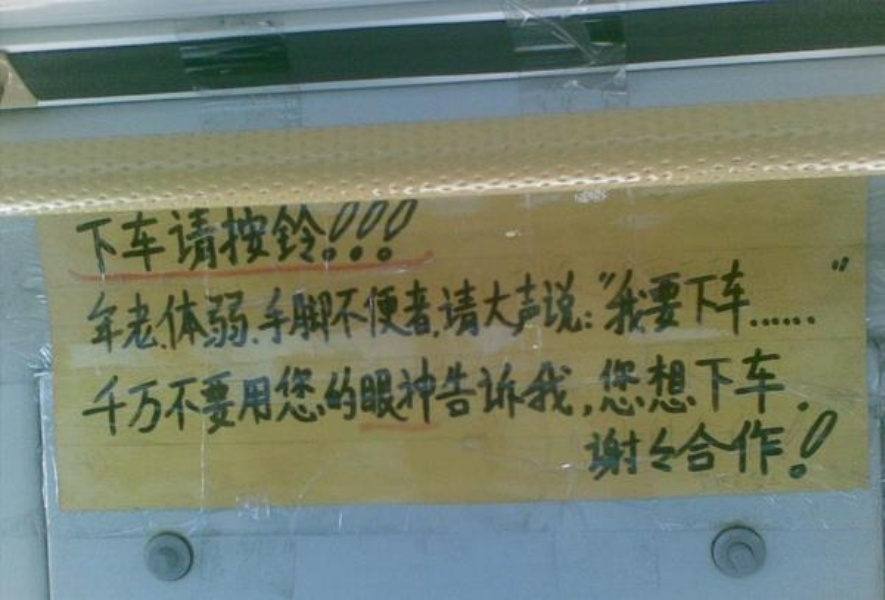text: (97, 251, 112, 371), (113, 251, 128, 371), (129, 251, 144, 371), (145, 251, 160, 371), (161, 251, 176, 371), (177, 251, 192, 371), (193, 251, 208, 371), (209, 251, 224, 371), (225, 251, 240, 371), (241, 251, 256, 371), (257, 251, 272, 371), (273, 251, 288, 371), (289, 251, 304, 371), (305, 251, 320, 371), (321, 251, 336, 371), (337, 251, 352, 371), (353, 251, 368, 371), (369, 251, 384, 371), (385, 251, 400, 371), (401, 251, 416, 371), (417, 251, 432, 371), (433, 251, 448, 371), (449, 251, 464, 371), (465, 251, 480, 371), (481, 251, 496, 371), (497, 251, 512, 371), (513, 251, 528, 371), (529, 251, 544, 371), (545, 251, 560, 371), (561, 251, 576, 371), (577, 251, 592, 371), (593, 251, 608, 371), (609, 251, 624, 371), (625, 251, 640, 371), (641, 251, 656, 371), (657, 251, 672, 371), (673, 251, 688, 371), (689, 251, 704, 371), (705, 251, 720, 371), (721, 251, 736, 371), (737, 251, 752, 371), (753, 251, 768, 371), (769, 251, 784, 371), (785, 251, 800, 371), (801, 251, 816, 371), (817, 251, 832, 371), (833, 251, 848, 371), (83, 251, 96, 371), (97, 348, 112, 440), (113, 348, 128, 440), (129, 348, 144, 440), (145, 348, 160, 440), (161, 348, 176, 440), (177, 348, 192, 440), (193, 348, 208, 440), (209, 348, 224, 440), (225, 348, 240, 440), (241, 348, 256, 440), (257, 348, 272, 440), (273, 348, 288, 440), (289, 348, 304, 440), (305, 348, 320, 440), (321, 348, 336, 440), (337, 348, 352, 440), (353, 348, 368, 440), (369, 348, 384, 440), (385, 348, 400, 440), (401, 348, 416, 440), (417, 348, 432, 440), (433, 348, 448, 440), (449, 348, 464, 440), (465, 348, 480, 440), (481, 348, 496, 440), (497, 348, 512, 440), (513, 348, 528, 440), (529, 348, 544, 440), (545, 348, 560, 440), (561, 348, 576, 440), (577, 348, 592, 440), (593, 348, 608, 440), (609, 348, 624, 440), (625, 348, 640, 440), (641, 348, 656, 440), (657, 348, 672, 440), (673, 348, 688, 440), (689, 348, 704, 440), (705, 348, 720, 440), (721, 348, 736, 440), (737, 348, 752, 440), (753, 348, 768, 440), (769, 348, 784, 440), (785, 348, 800, 440), (81, 192, 96, 281), (97, 192, 112, 281), (113, 192, 128, 281), (129, 192, 144, 281), (145, 192, 160, 281), (161, 192, 176, 281), (177, 192, 192, 281), (193, 192, 208, 281), (209, 192, 224, 281), (225, 192, 240, 281), (241, 192, 256, 281), (257, 192, 272, 281), (273, 192, 288, 281), (289, 192, 304, 281), (305, 192, 320, 281), (321, 192, 336, 281), (337, 192, 352, 281), (353, 192, 368, 281), (369, 192, 384, 281), (385, 192, 400, 281), (401, 192, 416, 281), (82, 348, 96, 440), (593, 412, 608, 493), (609, 412, 624, 493), (625, 412, 640, 493), (641, 412, 656, 493), (657, 412, 672, 493), (673, 412, 688, 493), (689, 412, 704, 493), (705, 412, 720, 493), (721, 412, 736, 493), (737, 412, 752, 493), (753, 412, 768, 493), (769, 412, 784, 493), (785, 412, 800, 493), (801, 412, 816, 493), (817, 412, 832, 493), (801, 348, 813, 440), (833, 412, 843, 493), (583, 412, 592, 493), (849, 251, 855, 371), (74, 192, 80, 281), (417, 192, 422, 281)
